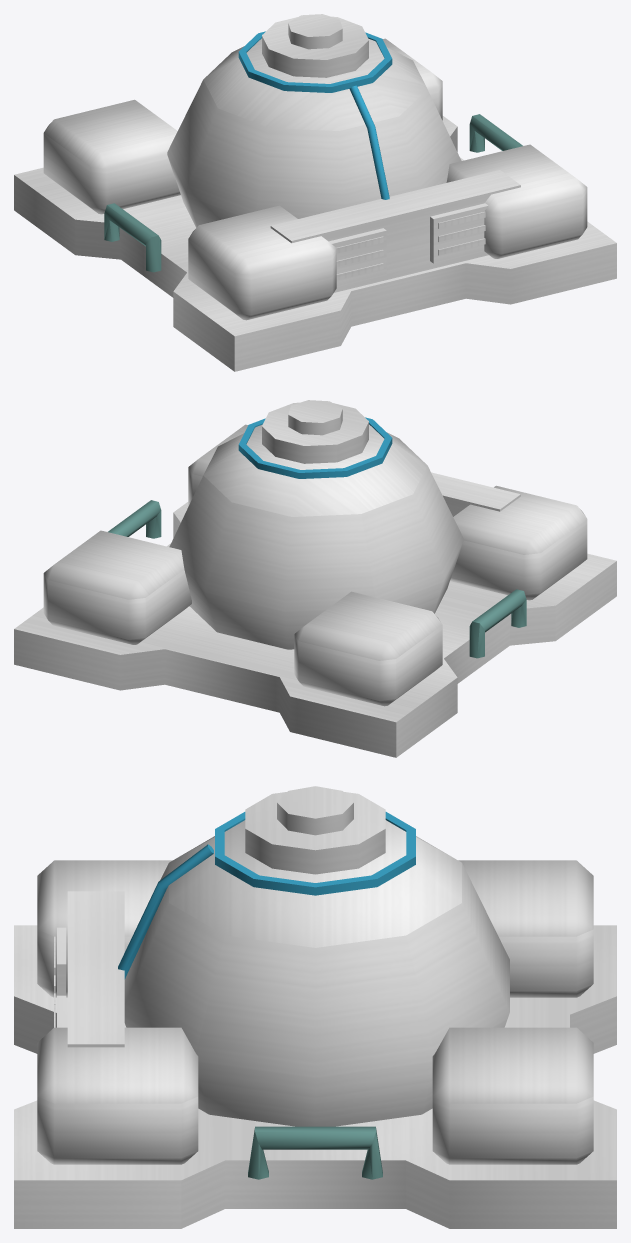
Rendered from gene_processor.obj.
3 views of the same model, one above another, from view 1: azimuth 30°, elevation 25°; view 2: azimuth 150°, elevation 25°; view 3: azimuth 270°, elevation 25° (orthographic). The views are drawn at different scales.
Visible parts, largest first — view 1: source_component_005, source_component_000, source_component_001, source_component_002, source_component_010, source_component_003, source_component_007, source_component_006, source_component_015, source_component_019, source_component_011, source_component_008 (+3 smaller); view 2: source_component_005, source_component_000, source_component_002, source_component_004, source_component_001, source_component_007, source_component_006, source_component_010, source_component_019, source_component_008, source_component_020, source_component_003; view 3: source_component_005, source_component_000, source_component_004, source_component_003, source_component_002, source_component_010, source_component_007, source_component_001, source_component_020, source_component_006, source_component_008, source_component_009 (+1 smaller).
Boxes of the visible parts, left/top/right/bottom form: source_component_005: left=167, top=38, right=461, bottom=227; source_component_000: left=14, top=116, right=616, bottom=371; source_component_001: left=188, top=205, right=336, bottom=320; source_component_002: left=43, top=99, right=180, bottom=214; source_component_010: left=270, top=170, right=520, bottom=292; source_component_003: left=446, top=144, right=587, bottom=258; source_component_007: left=262, top=16, right=368, bottom=77; source_component_006: left=238, top=31, right=392, bottom=92; source_component_015: left=430, top=203, right=488, bottom=263; source_component_019: left=104, top=203, right=161, bottom=272; source_component_011: left=328, top=228, right=386, bottom=286; source_component_008: left=288, top=14, right=342, bottom=49; source_component_005: left=169, top=424, right=463, bottom=649; source_component_000: left=14, top=502, right=616, bottom=757; source_component_002: left=294, top=591, right=442, bottom=706; source_component_004: left=43, top=530, right=191, bottom=644; source_component_001: left=450, top=485, right=587, bottom=600; source_component_007: left=262, top=402, right=368, bottom=463; source_component_006: left=238, top=417, right=392, bottom=478; source_component_010: left=431, top=472, right=520, bottom=516; source_component_019: left=469, top=589, right=526, bottom=658; source_component_008: left=288, top=400, right=342, bottom=435; source_component_020: left=108, top=500, right=161, bottom=538; source_component_003: left=188, top=424, right=248, bottom=506; source_component_005: left=124, top=820, right=509, bottom=1126; source_component_000: left=14, top=925, right=616, bottom=1228; source_component_004: left=432, top=1027, right=593, bottom=1164; source_component_003: left=37, top=1027, right=198, bottom=1164; source_component_002: left=458, top=860, right=593, bottom=997; source_component_010: left=67, top=891, right=124, bottom=1047; source_component_007: left=245, top=792, right=385, bottom=874; source_component_001: left=37, top=860, right=172, bottom=997; source_component_020: left=248, top=1126, right=382, bottom=1179; source_component_006: left=215, top=812, right=415, bottom=895; source_component_008: left=277, top=786, right=353, bottom=835; source_component_009: left=118, top=844, right=213, bottom=979.
Bounding box in the file's own units: 1.8 × 0.985 × 1.8.
